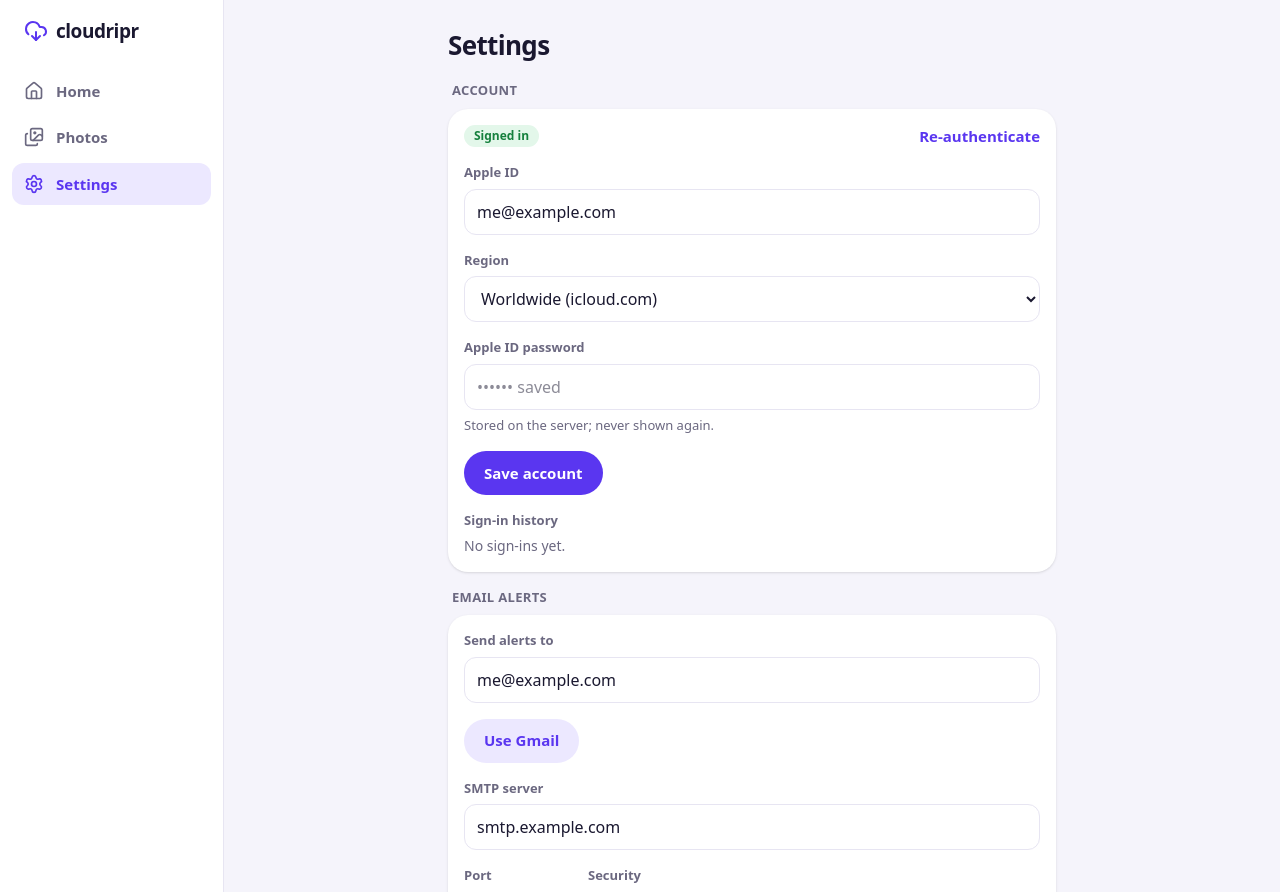
Test case: Gmail preset fills host, port and security
Click the button "Use Gmail". click: (522, 740)
box: [464, 718, 579, 762]
(page scrolled)
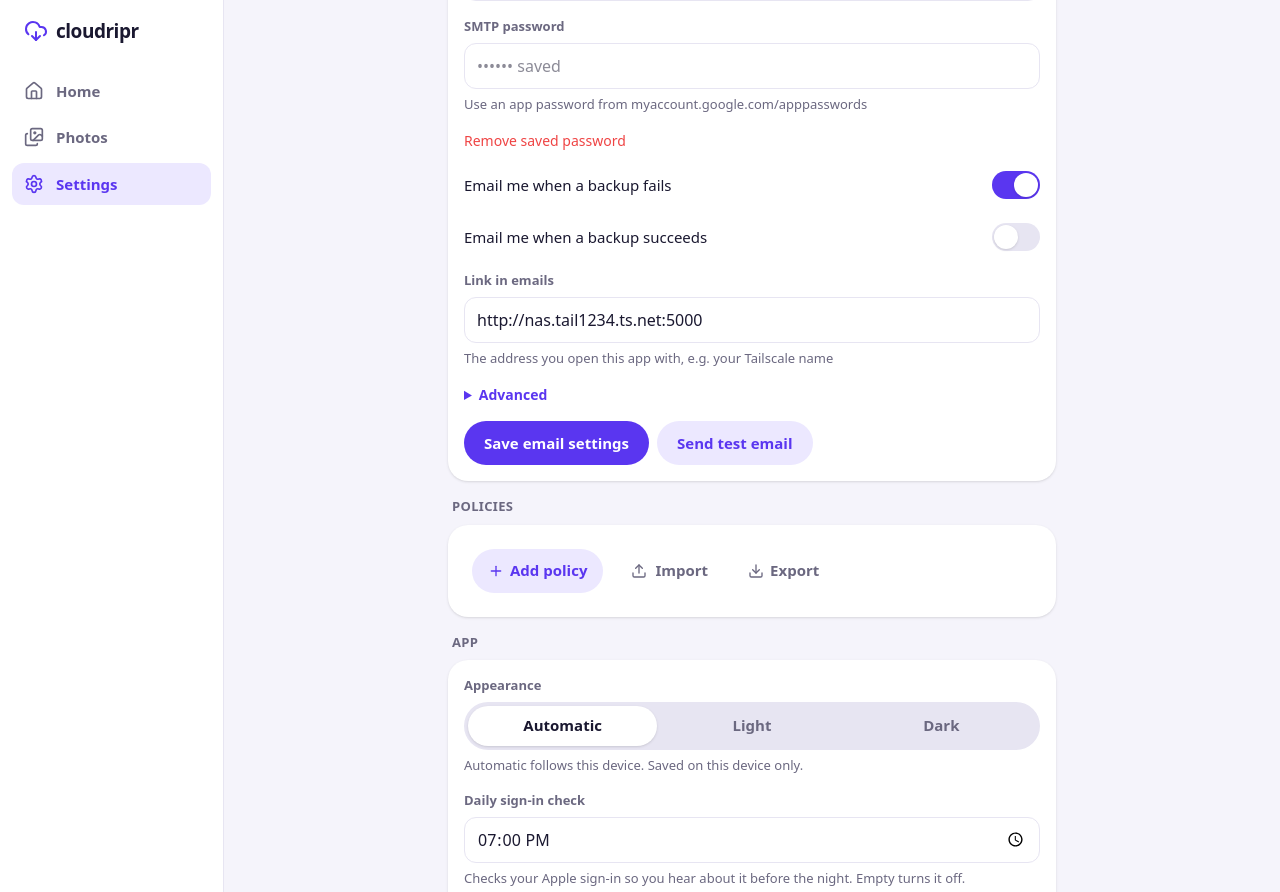
Click the button "Save email settings". click: (557, 443)
box: [464, 421, 649, 465]
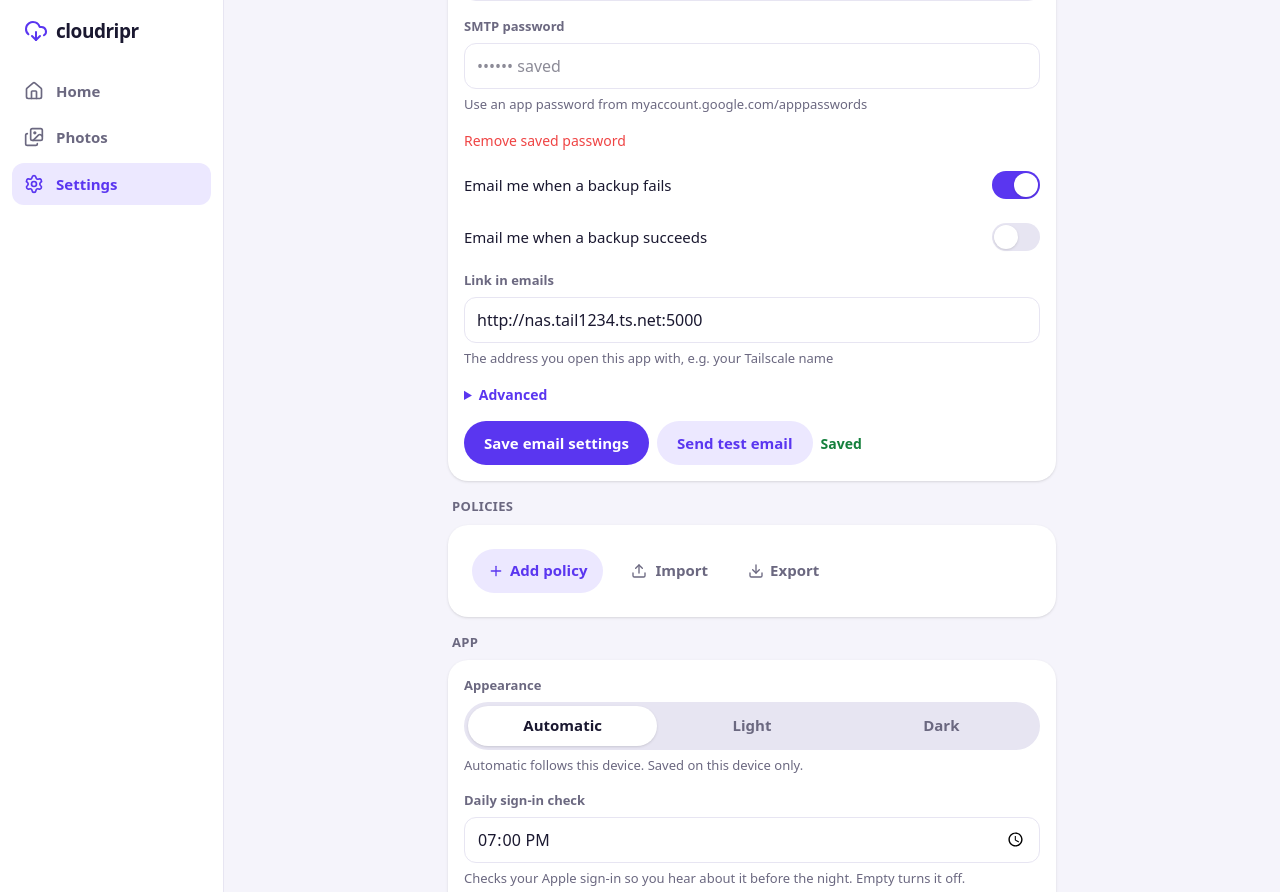
Now the text "Saved" is shown, box [820, 432, 862, 454]
